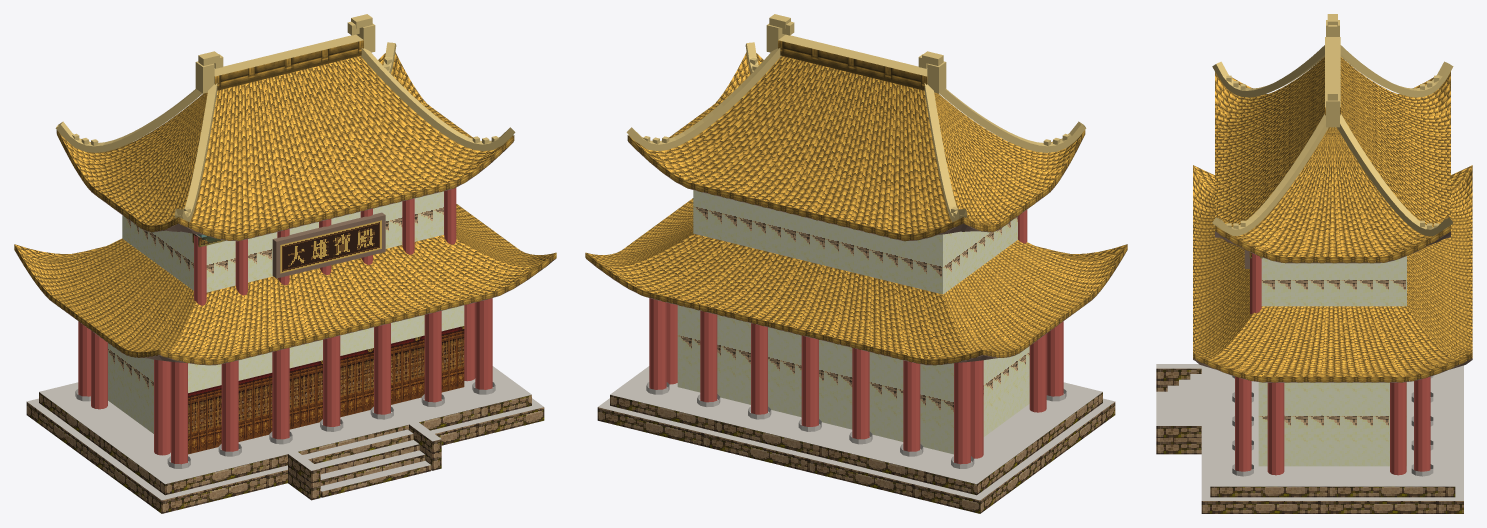
Rendered from daewoong.glb.
3 renders of one model, left to right at view 1: azimuth 30°, elevation 25°; view 2: azimuth 150°, elevation 25°; view 3: azimuth 270°, elevation 25°, orthographic. The views are drawn at different scales.
Visible parts, largest first — view 1: roof, col, stonetop, plaster, stone, door, ridgeend, eave, plaque, ridge, wood, under; view 2: roof, plaster, col, stonetop, stone, ridgeend, eave, ridge, under; view 3: roof, plaster, stonetop, stone, ridgeend, col, eave, under.
Part boxes in pixels (x1,y1,x2,y2): roof: (14, 52, 555, 359); col: (78, 188, 492, 464); stonetop: (27, 366, 543, 500); plaster: (108, 191, 464, 433); stone: (26, 392, 544, 513); door: (188, 326, 464, 454); ridgeend: (55, 14, 515, 222); eave: (14, 130, 556, 365); plaque: (280, 220, 381, 273); ridge: (214, 40, 363, 90); wood: (195, 212, 385, 278); under: (16, 135, 555, 365); roof: (586, 52, 1127, 359); plaster: (677, 190, 1029, 454); col: (649, 210, 1063, 464); stonetop: (598, 366, 1114, 500); stone: (597, 392, 1115, 513); ridgeend: (626, 14, 1086, 222); eave: (585, 130, 1127, 365); ridge: (778, 40, 927, 90); under: (586, 139, 1127, 365); roof: (1193, 57, 1472, 376); plaster: (1258, 256, 1406, 466); stonetop: (1156, 364, 1463, 500); stone: (1156, 368, 1463, 513); ridgeend: (1212, 14, 1453, 235); col: (1235, 253, 1430, 475); eave: (1193, 225, 1472, 382); under: (1193, 231, 1472, 382).
Bounding box in the file's own units: 102 × 93.3 × 72.4.
Materials: 15 (8 with a texture image).
